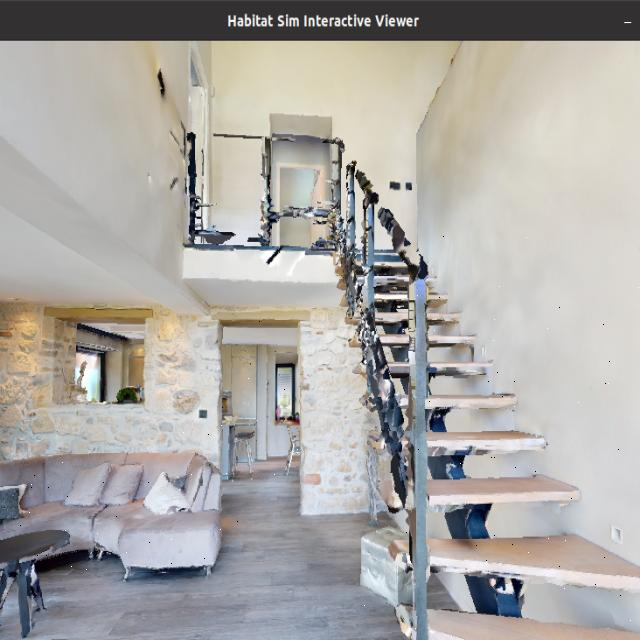door-frame: (209, 311, 312, 548)
sofa: (0, 427, 238, 585)
stairs: (363, 224, 640, 639)
